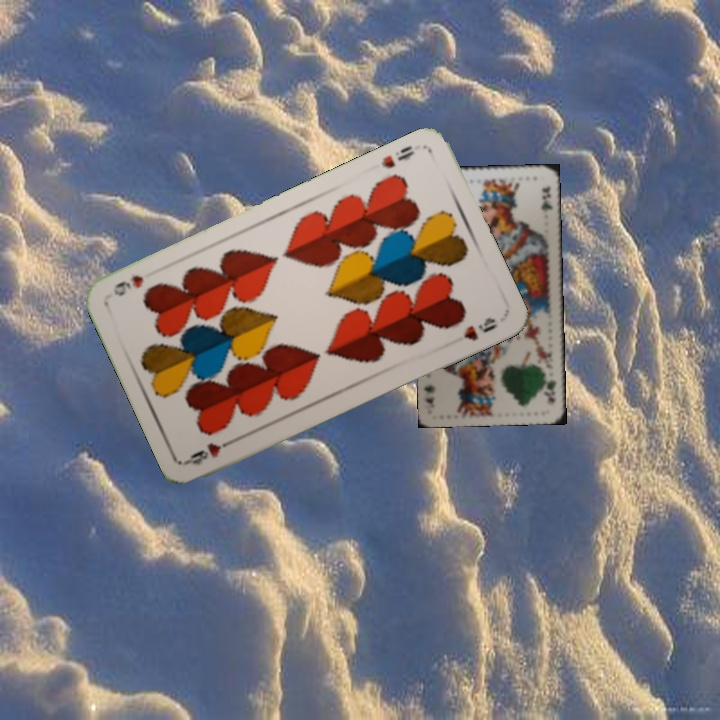GK: (541, 368, 559, 407)
H9: (184, 433, 240, 468), (377, 141, 417, 171)
